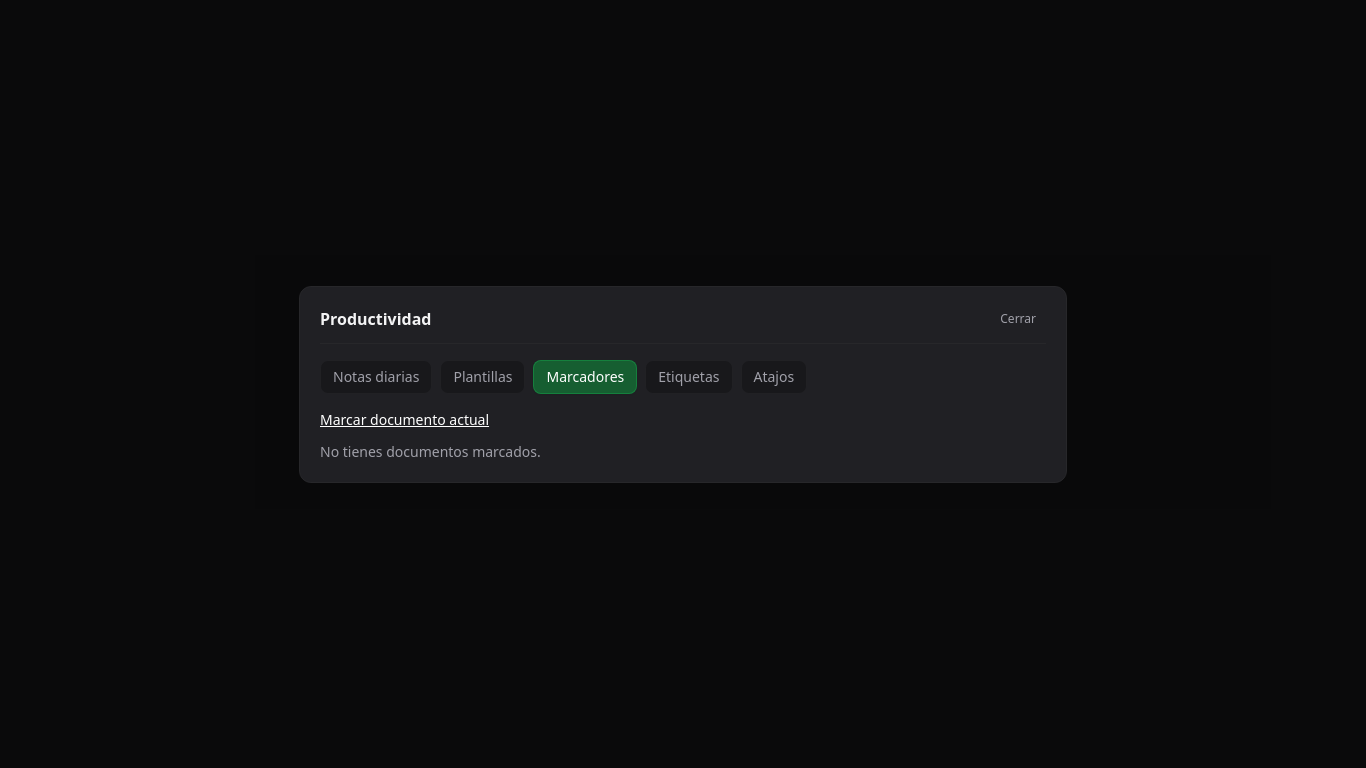
Test: marks the active document through the productivity panel
Later steps or results of the test are not shown.
Step 1. Click the button "Marcar documento actual" → (405, 420), box [320,410,489,430]
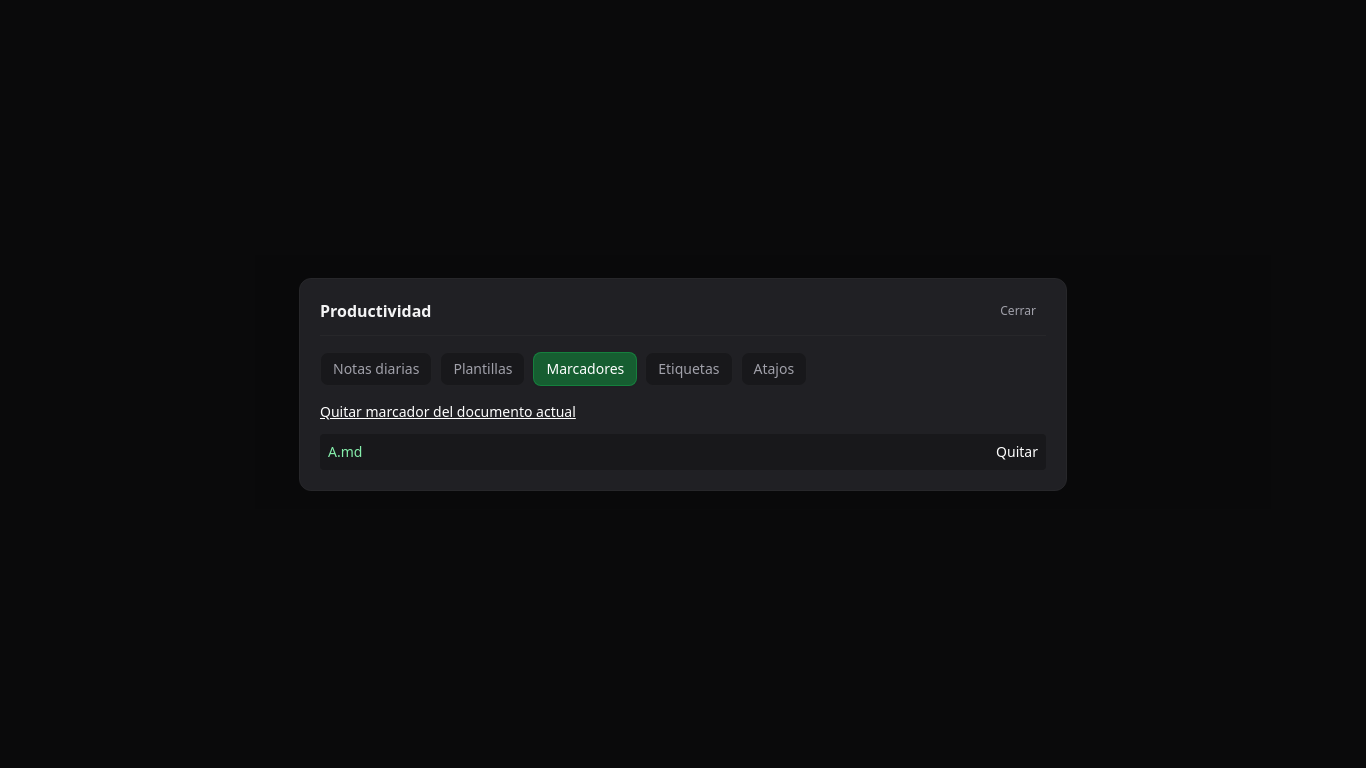
Check: the text "A.md" is shown, box [328,442,984,462]
Check: the button "Quitar" is shown, box [996,442,1038,462]
